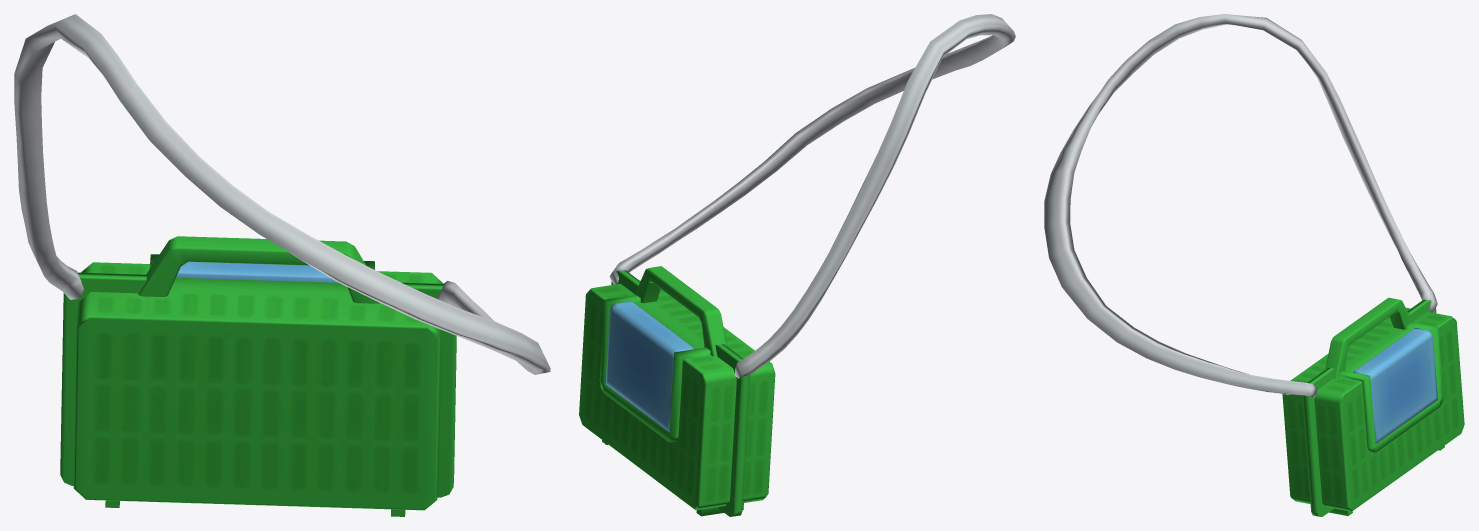
Rendered from BagShoulderCage0.glb.
3 views of the same model, side by side, from view 1: azimuth 30°, elevation 25°; view 2: azimuth 150°, elevation 25°; view 3: azimuth 270°, elevation 25° (orthographic). The views are drawn at different scales.
Parts seen in each view (by area): view 1: Belt__mBag; view 2: Belt__mBag; view 3: Belt__mBag.
Part boxes in pixels (x1=…): Belt__mBag: x1=14, y1=14, x2=550, y2=516; Belt__mBag: x1=579, y1=14, x2=1015, y2=516; Belt__mBag: x1=1044, y1=14, x2=1464, y2=516.
Bounding box in the file's own units: 3.01 × 3.91 × 3.89.
1 material, 1 textured.
